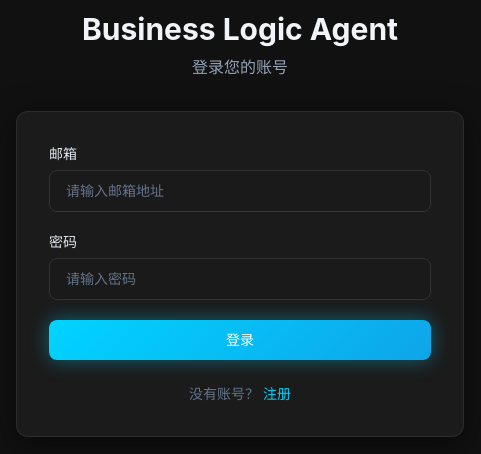
Test case: LoginPage › 登录提交中应显示"登录中..."并禁用按钮
The image size is (481, 454).
In the field labelled "邮箱": (240, 191) 49,170 -> 431,212, type "test@example.com"
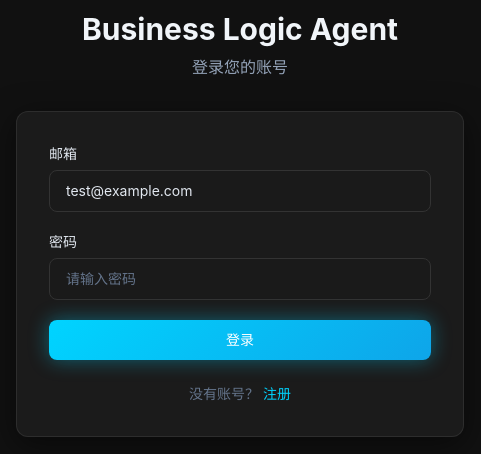
In the password field labelled "密码": (240, 279) 49,258 -> 431,300, type "password123"
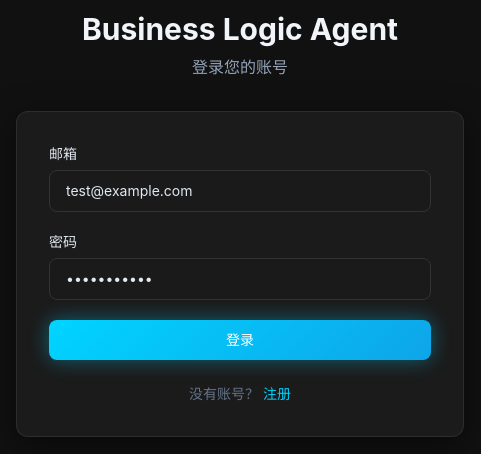
Click the button "登录": (240, 340) 49,320 -> 431,360
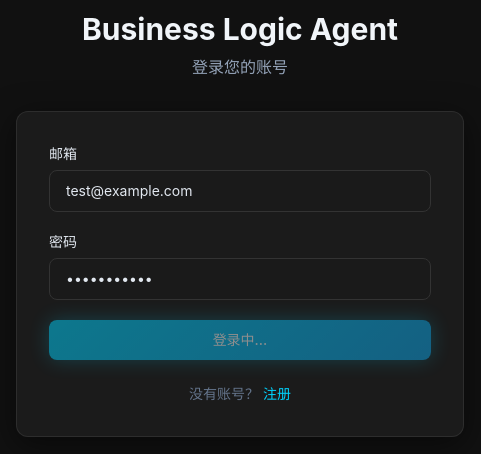
Now the button "登录中..." is disabled, box 49,320 -> 431,360
